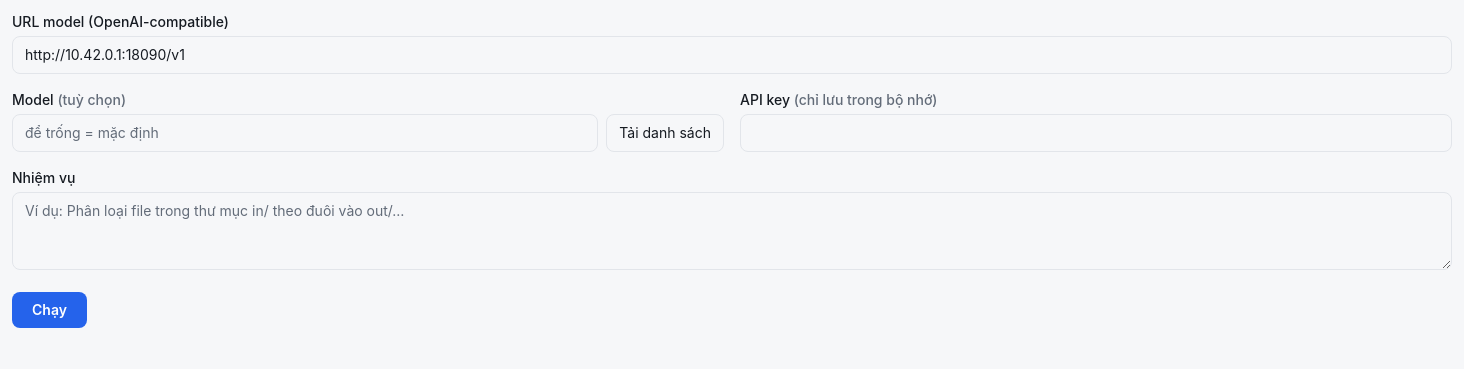
Test: ConfigForm - chọn model › shows the error and keeps a free-text input when loading fails
Click the button "Tải danh sách": x=665, y=133 [606,114,724,152]
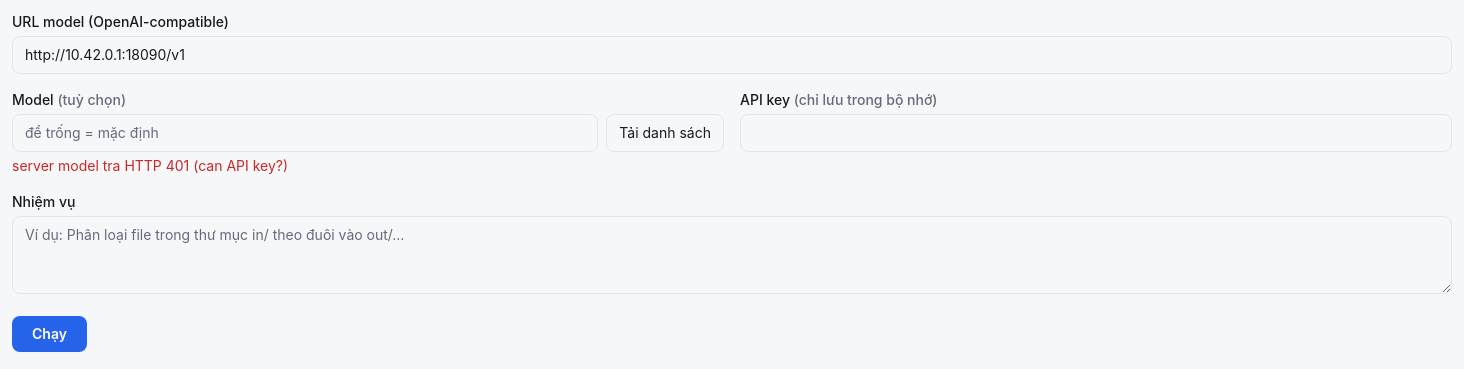
Now the text "server model tra HTTP 401 (can API key?)" is shown, box [12,157,288,174]
